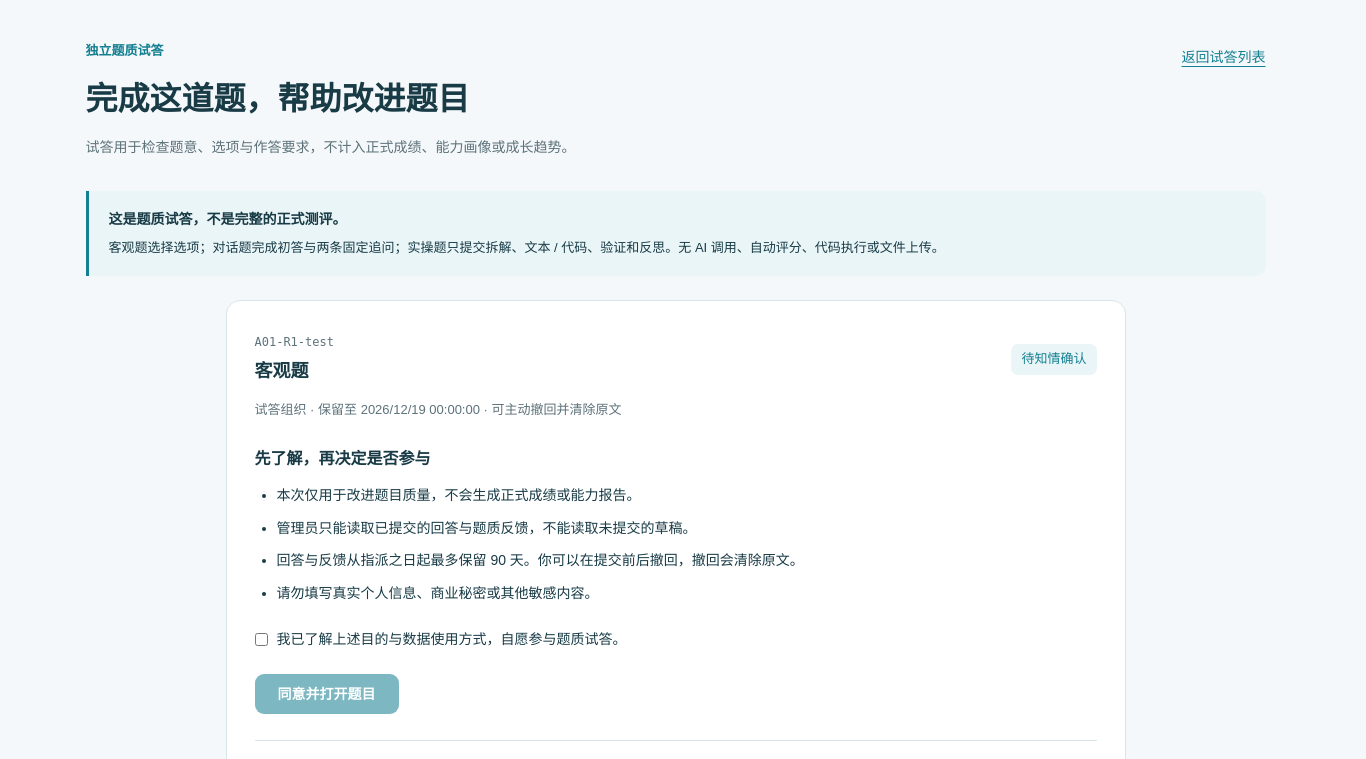
Test: learner content-quality trial › requires explicit consent and does not reveal a question before confirmation
Expected: the text "核查原始来源" is not shown
Expected: the button with test id "trial-consent" is disabled, x1=254 y1=674 x2=398 y2=714
Click the checkbox with test id "trial-consent-check" at (261, 640), box x1=254 y1=633 x2=268 y2=646
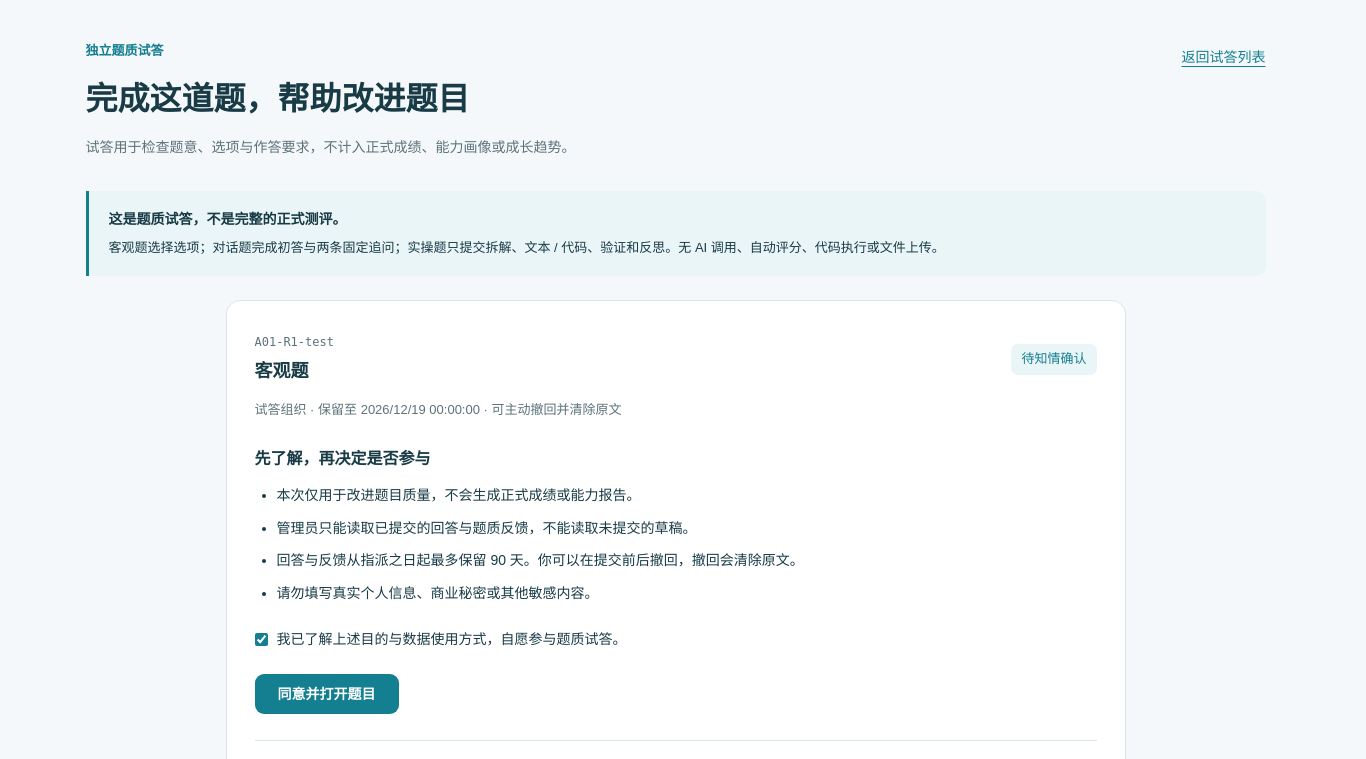
Click the button with test id "trial-consent" at (326, 694), box x1=254 y1=674 x2=398 y2=714
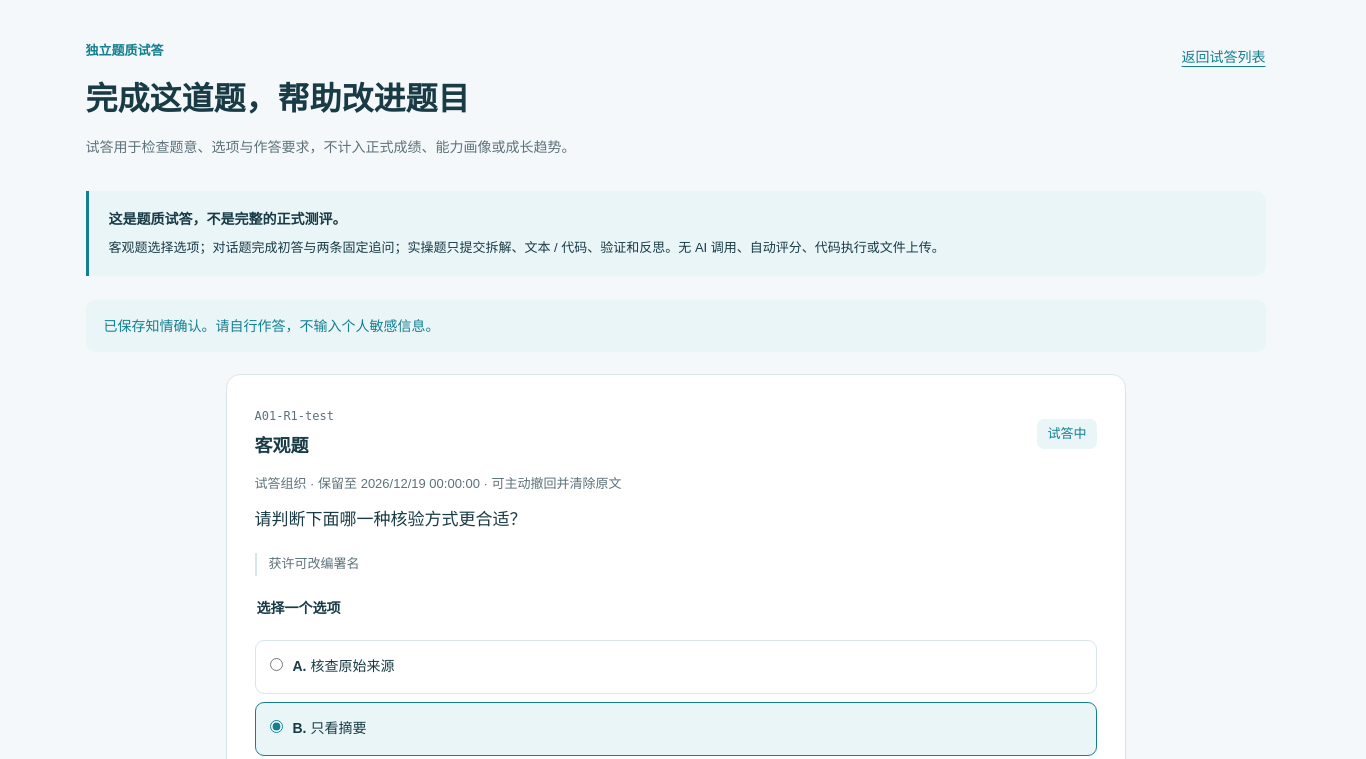
Expected: the text "获许可改编署名" is shown, x1=254 y1=553 x2=1096 y2=576
